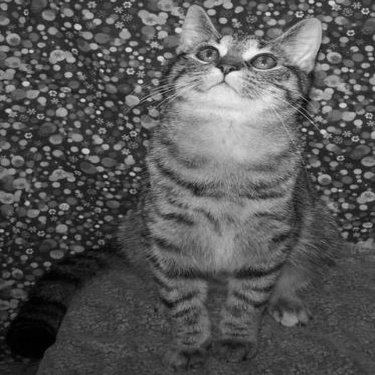cat: (122, 4, 334, 359)
